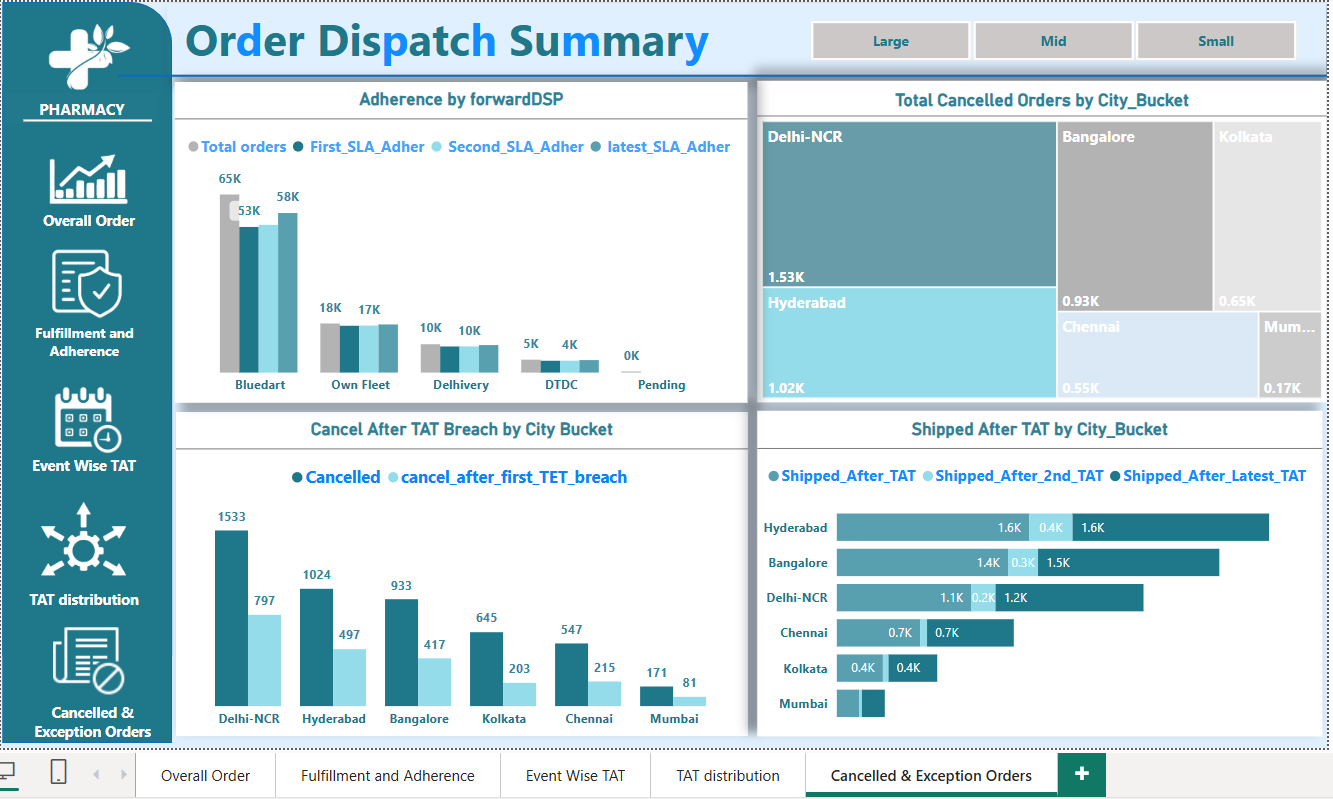

What the dashboard file says about the page in this screenshot:
{"tool":"powerbi","page":{"name":"Cancelled & Exception Orders","canvas":[1280,720],"ordinal":4},"visuals":[{"type":"shape","box":[0,0,164.8,715.5],"z":0},{"type":"textbox","box":[160,1.2,1118.6,70.2],"z":1000},{"type":"image","box":[20,127.9,128.6,86.9],"z":2000},{"type":"image","box":[25.2,360.2,114.3,89.3],"z":3000},{"type":"image","box":[31,467.9,96.9,100],"z":4000},{"type":"image","box":[35,596.4,98.8,78.6],"z":5000},{"type":"image","box":[45.2,229.8,77.4,85.7],"z":6000},{"type":"actionButton","box":[20.3,123.1,134.5,109.1],"z":7000},{"type":"textbox","box":[31,196.4,110.7,30.2],"z":8000},{"type":"textbox","box":[1.2,305.5,158.3,48.1],"z":9000},{"type":"actionButton","box":[29.3,223.8,110.7,128.6],"z":10000},{"type":"actionButton","box":[11.9,358.8,140.5,106.7],"z":11000},{"type":"textbox","box":[19,433.3,125,33.6],"z":12000},{"type":"textbox","box":[17.9,562.4,123.8,28.6],"z":13000},{"type":"actionButton","box":[13.1,469.1,134.5,128.6],"z":14000},{"type":"textbox","box":[16.7,670.2,142.9,48.8],"z":15000},{"type":"actionButton","box":[9.5,601.4,148.8,118.8],"z":16000},{"type":"shape","box":[22.1,97.6,124.3,33.3],"z":17000},{"type":"slicer","fields":{"Values":["Sheet1.store_type"]},"box":[754.8,10.7,519.1,52.4],"z":18000},{"type":"clusteredColumnChart","title":"Cancel After TAT Breach by City Bucket","fields":{"Category":["Sheet1.City_Bucket"],"Y":["Sum(Sheet1.isCancelled)","Sum(Sheet1.cancel_after_first_TET_breach)"]},"box":[169,395.2,551.7,313.1],"z":19000},{"type":"barChart","title":"Shipped After TAT by City_Bucket","fields":{"Category":["Sheet1.City_Bucket"],"Y":["Sum(Sheet1.Shipped_After_2ndTAT)","Sum(Sheet1.Shipped_After_3rdTAT)","Sum(Sheet1.Shipped_After_TAT)"]},"box":[729.8,394,545.2,314.3],"z":20000},{"type":"treemap","title":"Total Cancelled Orders by City_Bucket","fields":{"Values":["Sum(Sheet1.isCancelled)"],"Group":["Sheet1.City_Bucket"]},"box":[730,76.2,549.8,310.7],"z":21000},{"type":"lineClusteredColumnComboChart","title":"Adherence by forwardDSP","fields":{"Category":["Sheet1.forwardDSP"],"Y":["Count(Sheet1.orderid)","Sum(Sheet1.First_SLA_Adherence)","Sum(Sheet1.Second_SLA_Adherence)","Sum(Sheet1.latest_SLA_Adherence)"]},"box":[167.9,77.4,552.9,309.5],"z":22000},{"type":"image","box":[8.3,1.2,156,98.8],"z":23000},{"type":"textbox","box":[3.3,88.3,148.8,29.8],"z":24000}]}

Visuals, with their boxes on the page's 1280x720 design canvas (x1, y1, x2, y2). These are canvas units, not pixel positions in the 1333x799 screenshot, which may show the page scaled, cropped or inside an application window:
shape: Rect(0, 0, 165, 716)
textbox: Rect(160, 1, 1279, 71)
image: Rect(20, 128, 149, 215)
image: Rect(25, 360, 140, 450)
image: Rect(31, 468, 128, 568)
image: Rect(35, 596, 134, 675)
image: Rect(45, 230, 123, 316)
actionButton: Rect(20, 123, 155, 232)
textbox: Rect(31, 196, 142, 227)
textbox: Rect(1, 306, 160, 354)
actionButton: Rect(29, 224, 140, 352)
actionButton: Rect(12, 359, 152, 466)
textbox: Rect(19, 433, 144, 467)
textbox: Rect(18, 562, 142, 591)
actionButton: Rect(13, 469, 148, 598)
textbox: Rect(17, 670, 160, 719)
actionButton: Rect(10, 601, 158, 720)
shape: Rect(22, 98, 146, 131)
slicer - Sheet1.store_type: Rect(755, 11, 1274, 63)
"Cancel After TAT Breach by City Bucket" clusteredColumnChart: Rect(169, 395, 721, 708)
"Shipped After TAT by City_Bucket" barChart: Rect(730, 394, 1275, 708)
"Total Cancelled Orders by City_Bucket" treemap: Rect(730, 76, 1280, 387)
"Adherence by forwardDSP" lineClusteredColumnComboChart: Rect(168, 77, 721, 387)
image: Rect(8, 1, 164, 100)
textbox: Rect(3, 88, 152, 118)
